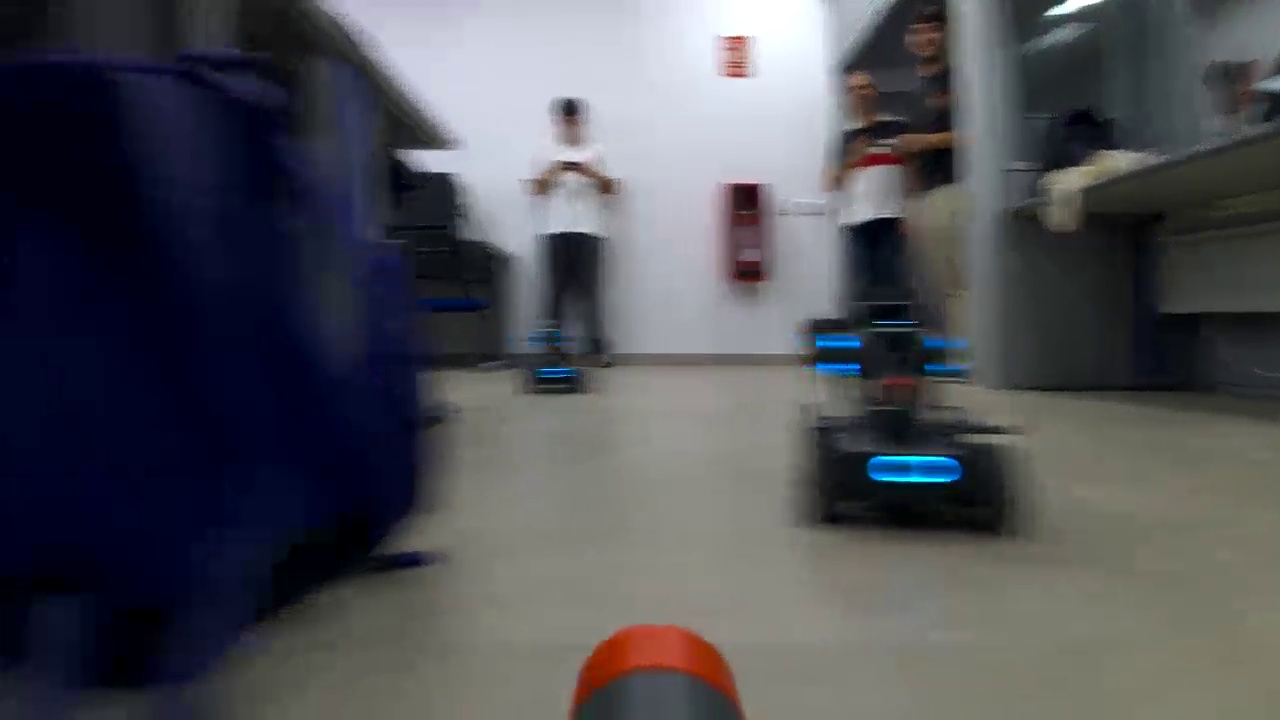robot: (790, 284, 1029, 553), (511, 316, 592, 400)
